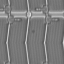dust: (31, 29, 35, 33)
